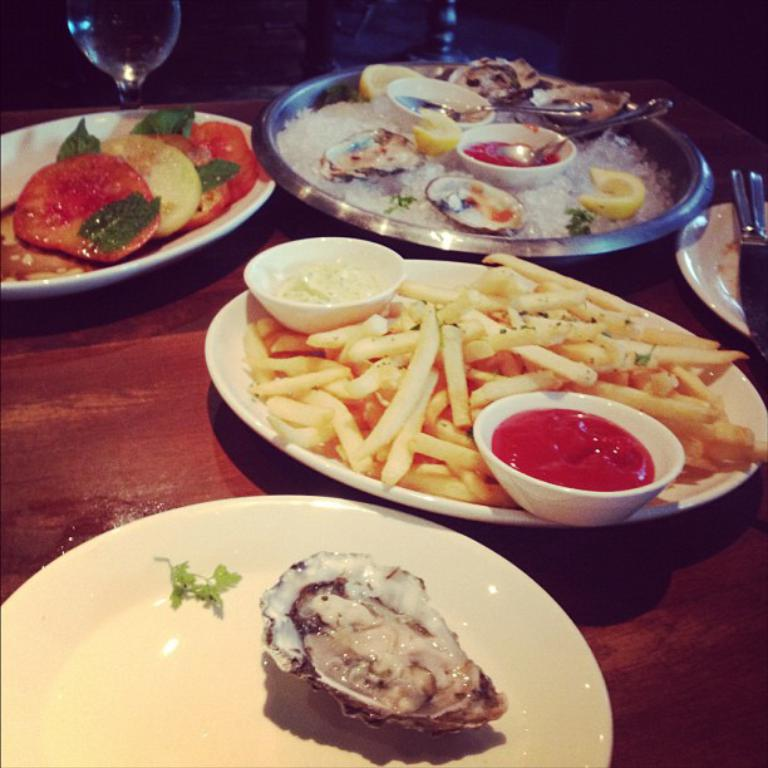plate: (0, 496, 609, 766)
